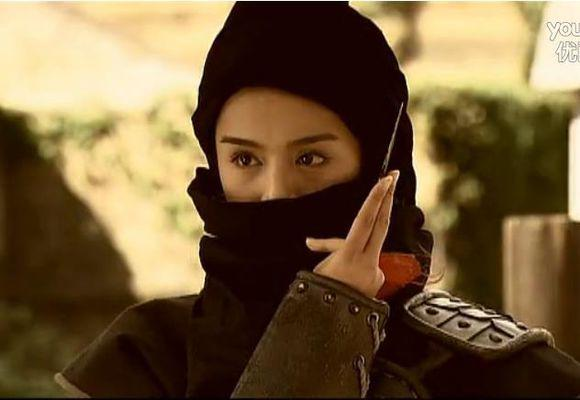WRONG: (206, 127, 359, 280)
